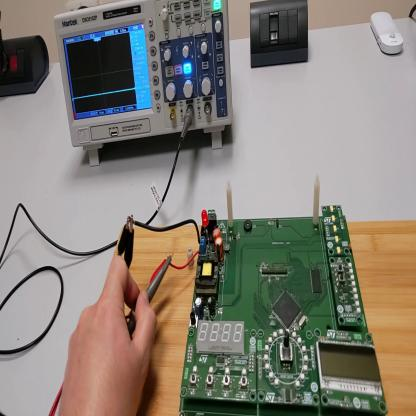hand: (59, 252, 156, 416)
low voltage board: (128, 177, 388, 416)
oscilloscope: (55, 2, 235, 168)
oscilloscope probe tip: (128, 257, 176, 338)
socket: (2, 33, 52, 99)
working area: (120, 220, 415, 416)
